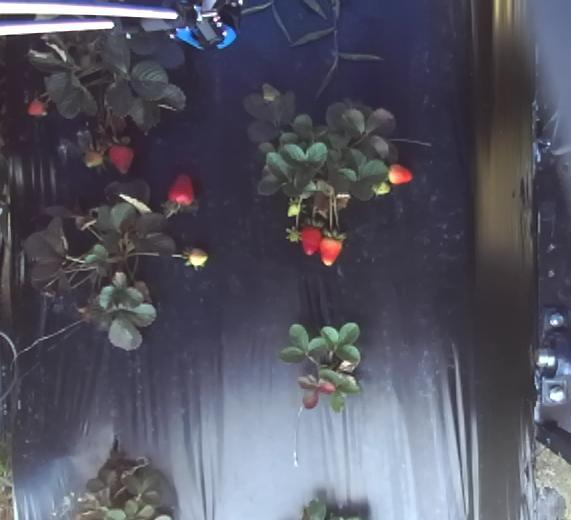mature: (167, 173, 194, 207), (106, 143, 134, 174), (318, 234, 343, 266), (298, 224, 321, 255), (387, 163, 412, 185), (26, 96, 48, 119)
